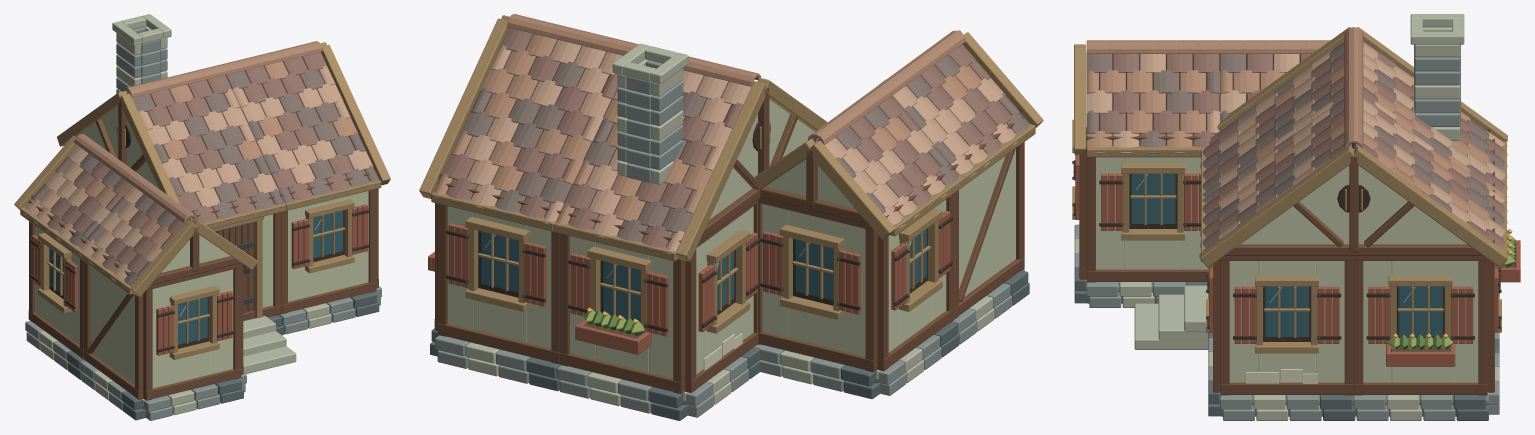
The model's file is family_side_wing.glb.
The picture shows the model from 3 angles, left to right: view 1: azimuth 30°, elevation 25°; view 2: azimuth 150°, elevation 25°; view 3: azimuth 270°, elevation 25°; orthographic projection. The views are drawn at different scales.
Visible parts, largest first — view 1: family_side_wing__040__roof_gable_4x2m__finish, family_side_wing__041__roof_gable_4x2m__finish, family_side_wing__045__roof_gable_2x2m__finish, family_side_wing__044__roof_gable_2x2m__finish, family_side_wing__002__wall_window_2m__finish, family_side_wing__002__wall_window_2m__structure, family_side_wing__028__wall_window_2m__finish, family_side_wing__028__wall_window_2m__structure, family_side_wing__006__wall_plain_2m__finish, family_side_wing__049__attachment_chimney__attachments, family_side_wing__043__gable_end_4m__structure, family_side_wing__012__wall_window_2m__structure (+18 smaller); view 2: family_side_wing__040__roof_gable_4x2m__finish, family_side_wing__041__roof_gable_4x2m__finish, family_side_wing__044__roof_gable_2x2m__finish, family_side_wing__045__roof_gable_2x2m__finish, family_side_wing__010__wall_window_2m__finish, family_side_wing__038__wall_window_2m__finish, family_side_wing__049__attachment_chimney__attachments, family_side_wing__010__wall_window_2m__structure, family_side_wing__038__wall_window_2m__structure, family_side_wing__020__wall_window_2m__finish, family_side_wing__020__wall_window_2m__structure, family_side_wing__043__gable_end_4m__structure (+22 smaller); view 3: family_side_wing__040__roof_gable_4x2m__finish, family_side_wing__041__roof_gable_4x2m__finish, family_side_wing__044__roof_gable_2x2m__finish, family_side_wing__042__gable_end_4m__structure, family_side_wing__030__wall_window_2m__finish, family_side_wing__035__wall_window_2m__finish, family_side_wing__004__wall_window_2m__finish, family_side_wing__030__wall_window_2m__structure, family_side_wing__042__gable_end_4m__finish, family_side_wing__035__wall_window_2m__structure, family_side_wing__004__wall_window_2m__structure, family_side_wing__049__attachment_chimney__attachments (+17 smaller).
Boxes of the visible parts, x1,y1,x2,y2 form: family_side_wing__040__roof_gable_4x2m__finish: [222, 41, 379, 205]; family_side_wing__041__roof_gable_4x2m__finish: [124, 64, 284, 225]; family_side_wing__045__roof_gable_2x2m__finish: [22, 134, 138, 249]; family_side_wing__044__roof_gable_2x2m__finish: [77, 174, 197, 289]; family_side_wing__002__wall_window_2m__finish: [152, 269, 233, 388]; family_side_wing__002__wall_window_2m__structure: [143, 263, 241, 400]; family_side_wing__028__wall_window_2m__finish: [288, 191, 368, 301]; family_side_wing__028__wall_window_2m__structure: [281, 171, 376, 313]; family_side_wing__006__wall_plain_2m__finish: [90, 266, 134, 384]; family_side_wing__049__attachment_chimney__attachments: [112, 14, 171, 93]; family_side_wing__043__gable_end_4m__structure: [57, 91, 180, 204]; family_side_wing__012__wall_window_2m__structure: [28, 200, 85, 359]; family_side_wing__040__roof_gable_4x2m__finish: [434, 14, 636, 224]; family_side_wing__041__roof_gable_4x2m__finish: [556, 44, 760, 254]; family_side_wing__044__roof_gable_2x2m__finish: [883, 30, 1032, 177]; family_side_wing__045__roof_gable_2x2m__finish: [807, 82, 962, 229]; family_side_wing__010__wall_window_2m__finish: [762, 203, 865, 356]; family_side_wing__038__wall_window_2m__finish: [448, 206, 551, 348]; family_side_wing__049__attachment_chimney__attachments: [612, 43, 688, 184]; family_side_wing__010__wall_window_2m__structure: [758, 197, 877, 372]; family_side_wing__038__wall_window_2m__structure: [437, 181, 560, 364]; family_side_wing__020__wall_window_2m__finish: [570, 236, 673, 378]; family_side_wing__020__wall_window_2m__structure: [559, 211, 685, 393]; family_side_wing__043__gable_end_4m__structure: [675, 77, 827, 261]; family_side_wing__040__roof_gable_4x2m__finish: [1200, 83, 1507, 253]; family_side_wing__041__roof_gable_4x2m__finish: [1200, 27, 1507, 198]; family_side_wing__044__roof_gable_2x2m__finish: [1086, 40, 1220, 153]; family_side_wing__042__gable_end_4m__structure: [1199, 145, 1507, 267]; family_side_wing__030__wall_window_2m__finish: [1229, 261, 1344, 382]; family_side_wing__035__wall_window_2m__finish: [1363, 261, 1478, 382]; family_side_wing__004__wall_window_2m__finish: [1096, 157, 1208, 269]; family_side_wing__030__wall_window_2m__structure: [1220, 255, 1353, 395]; family_side_wing__042__gable_end_4m__finish: [1240, 149, 1466, 244]; family_side_wing__035__wall_window_2m__structure: [1354, 255, 1487, 395]; family_side_wing__004__wall_window_2m__structure: [1086, 134, 1211, 282]; family_side_wing__049__attachment_chimney__attachments: [1410, 14, 1464, 140].
Size of the model in its own units: 6.81 by 5.08 by 6.71.
